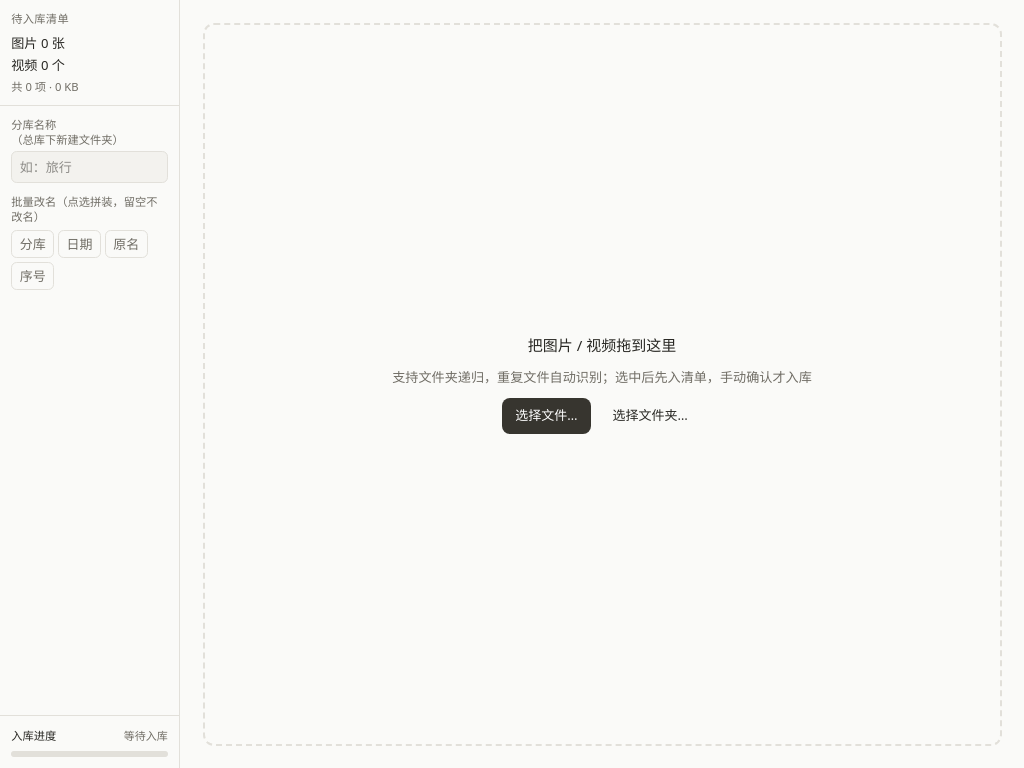
Test: ImportPage › 选到空清单时给出明确错误提示
Click the button "选择文件…": coordinates (546, 416) [502,398,591,434]
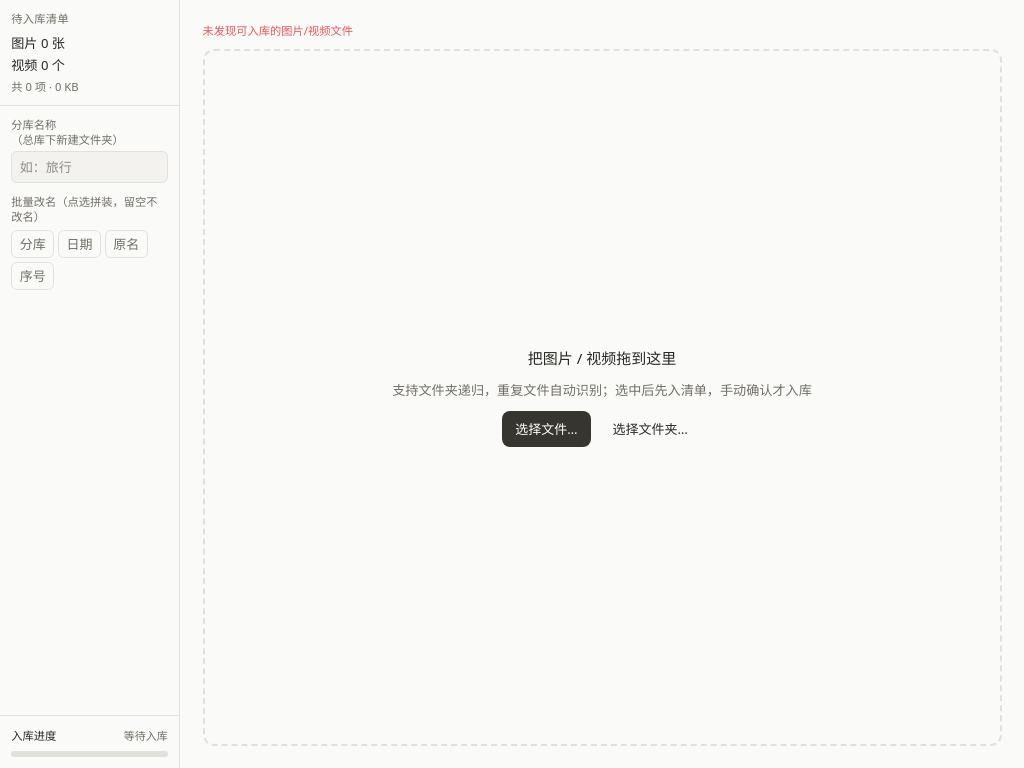
Result: the text "未发现可入库的图片/视频文件" is shown at [202,22,353,38]
